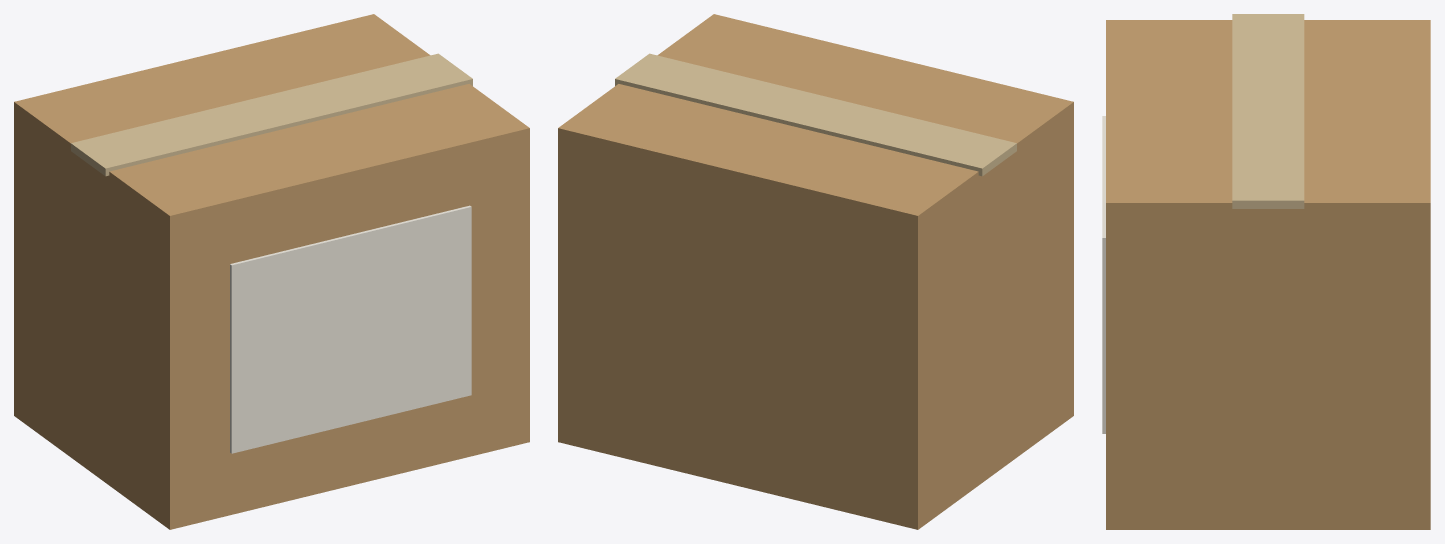
File: product-box.glb
3 renders of one model, left to right at view 1: azimuth 30°, elevation 25°; view 2: azimuth 150°, elevation 25°; view 3: azimuth 270°, elevation 25°, orthographic. The views are drawn at different scales.
Visible parts, largest first — view 1: Body, Label, Tape; view 2: Body, Tape; view 3: Body, Tape, Label.
Boxes of the visible parts, x1,y1,x2,y2 form: Body: [14, 14, 529, 529]; Label: [230, 205, 471, 453]; Tape: [71, 53, 472, 176]; Body: [558, 14, 1073, 529]; Tape: [615, 53, 1016, 176]; Body: [1106, 20, 1430, 529]; Tape: [1232, 14, 1304, 208]; Label: [1102, 116, 1105, 433].
Size of the model in its own units: 0.245 by 0.2025 by 0.182.
